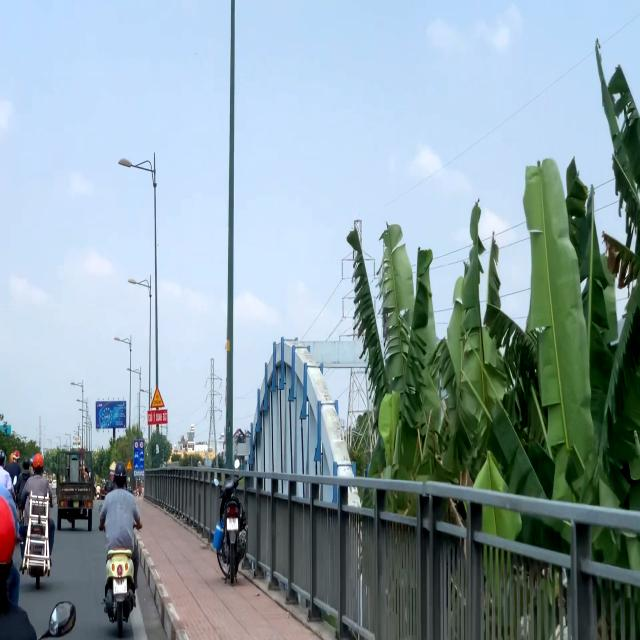W.245a: (150, 387, 165, 409)
